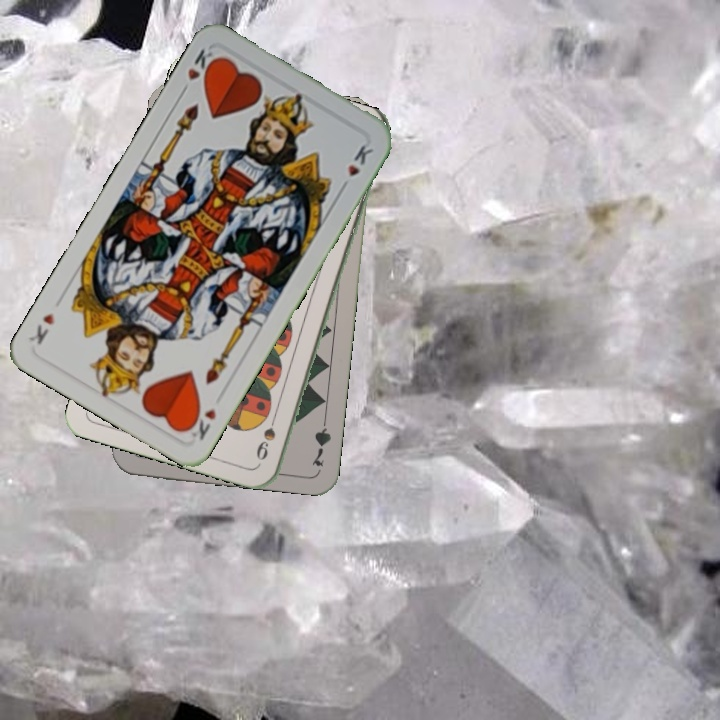G7: (307, 410, 334, 469)
HK: (183, 44, 221, 86), (183, 403, 219, 443)
S9: (253, 407, 281, 463)
